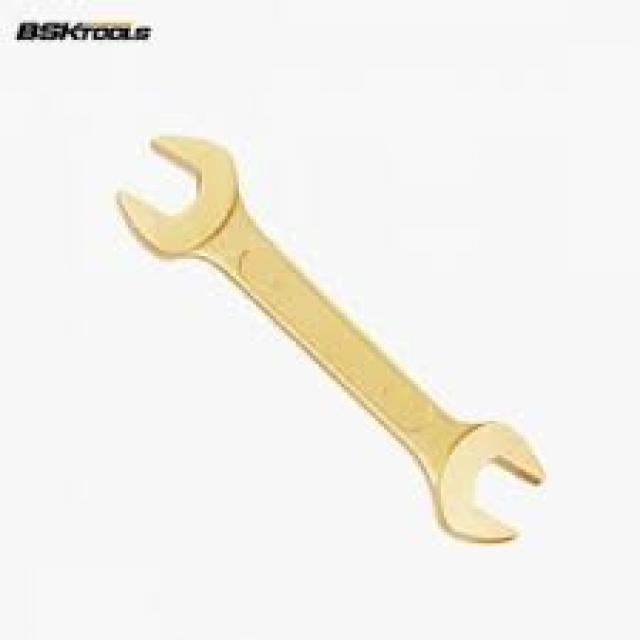wrench: (111, 124, 551, 557)
